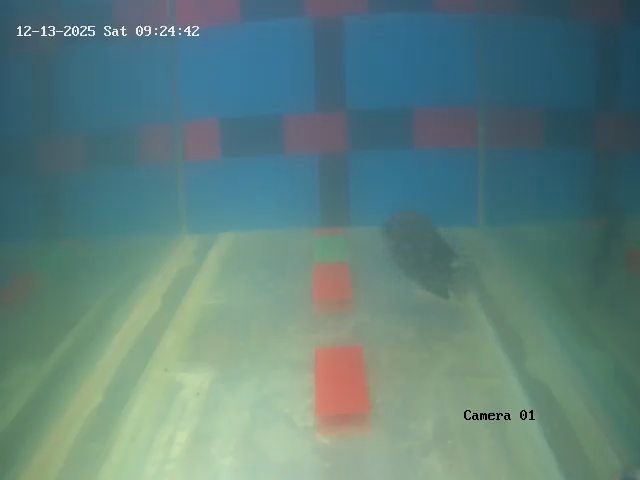fish: (383, 212, 467, 295)
